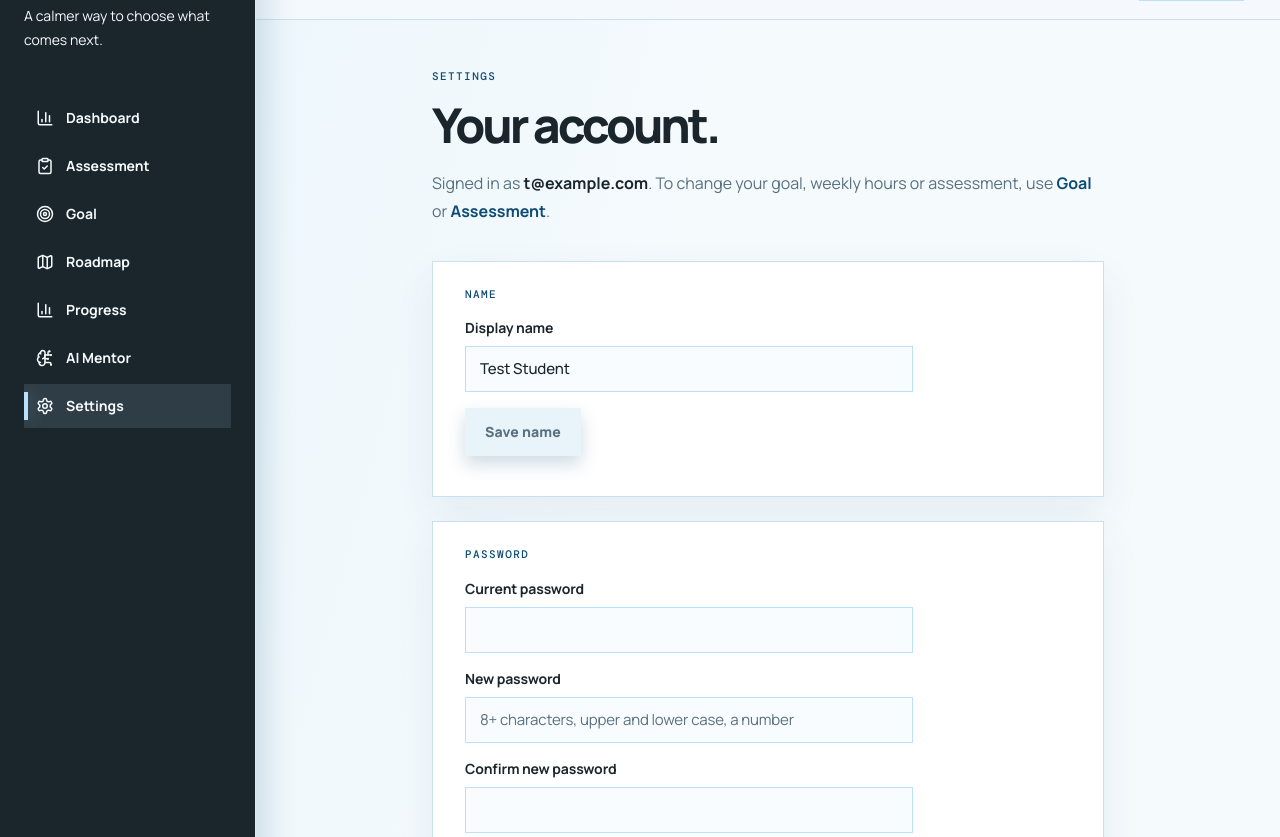
Test case: settings page › shows which password field is wrong and keeps what was typed
This screenshot has width=1280, height=837.
Type "Wrong1234" into the password field labelled "Current password".
click(689, 630); type("Wrong1234")  # box [465,606,913,652]
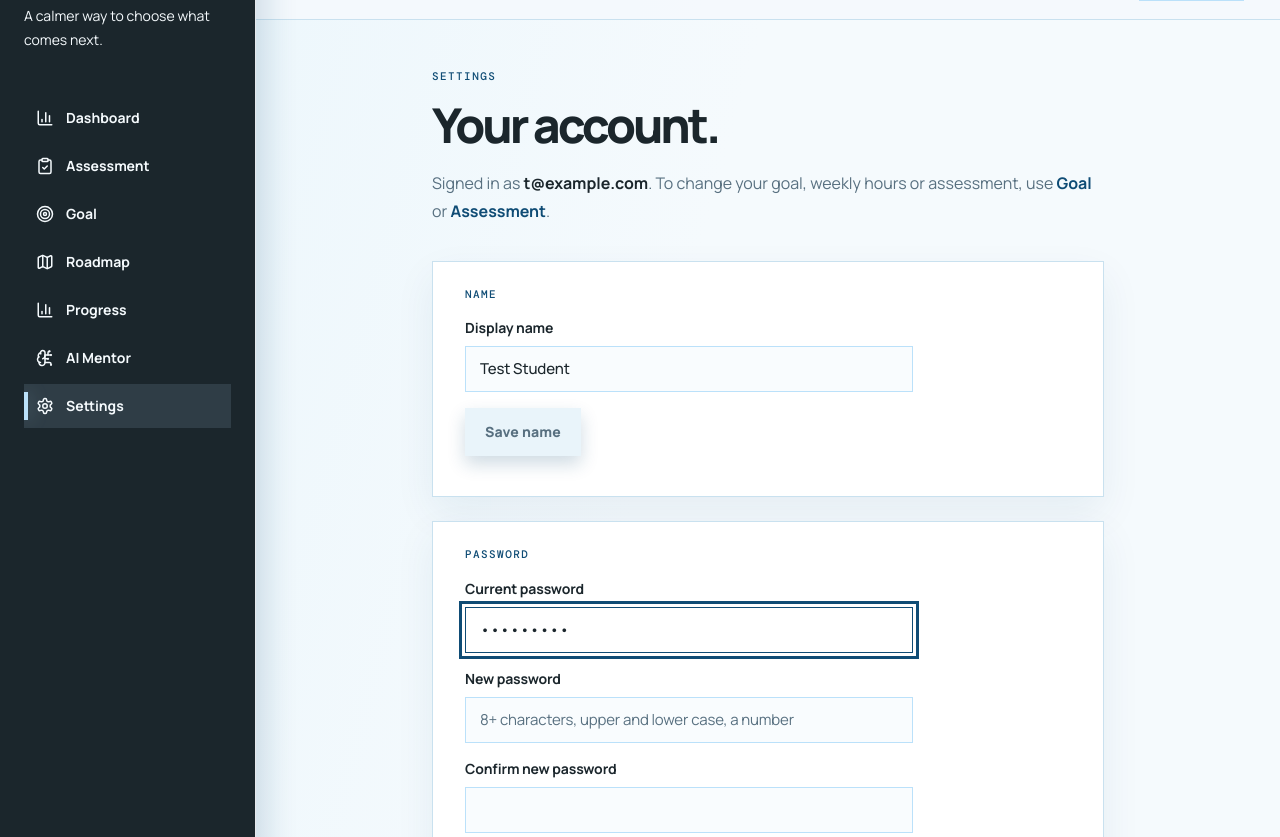
Type "Brand9Newer" into the password field labelled "New password".
click(689, 720); type("Brand9Newer")  # box [465,696,913,742]
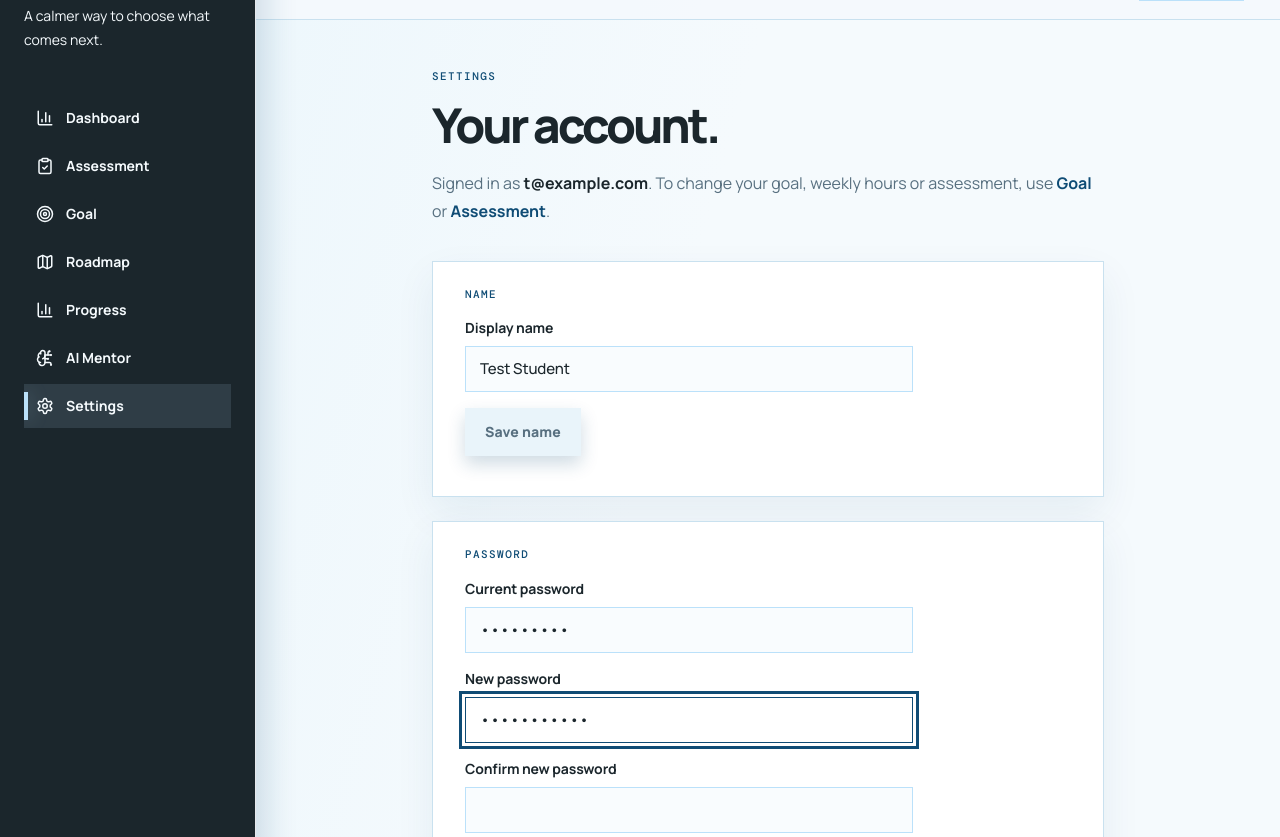
Type "Brand9Newer" into the password field labelled "Confirm new password".
click(689, 810); type("Brand9Newer")  # box [465,786,913,832]
(page scrolled)
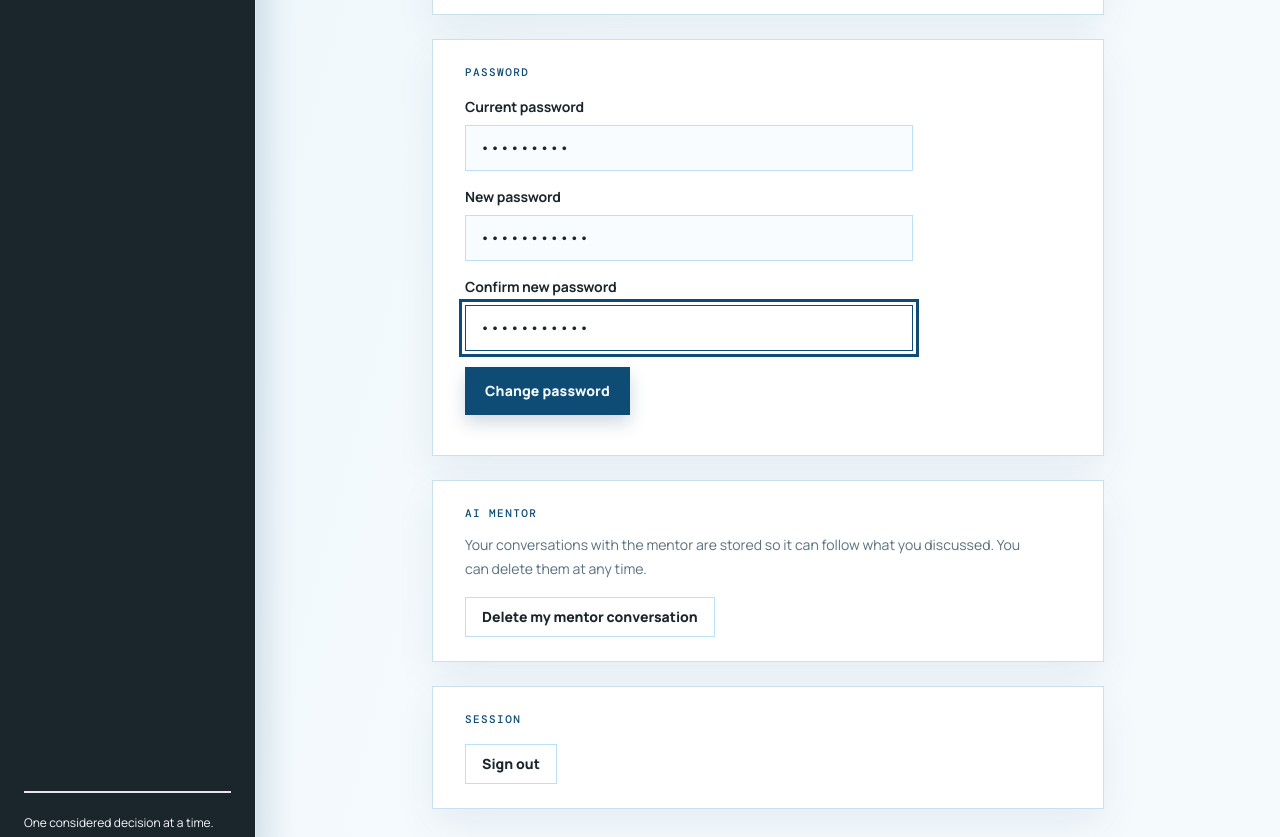
Click the button "Change password".
click(547, 390)  # box [465,366,630,414]
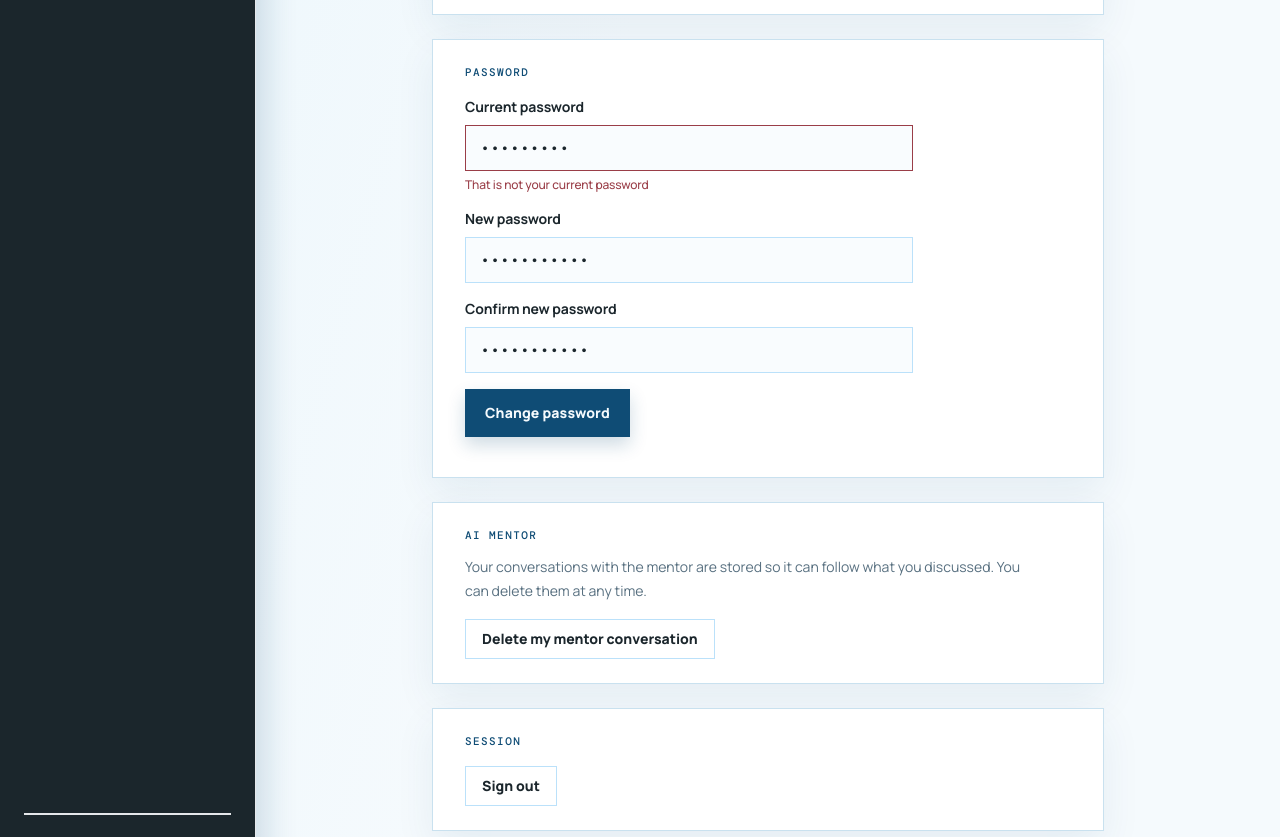
expect the text "That is not your current password" is shown: met, box [465,176,649,192]
